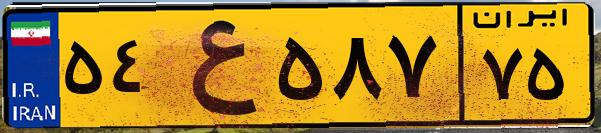4: (110, 28, 158, 98)
5: (270, 28, 330, 110), (57, 26, 110, 100), (525, 38, 570, 115)
7: (385, 28, 445, 110), (475, 38, 525, 113)
8: (330, 28, 385, 110)
ع: (158, 12, 270, 120)
